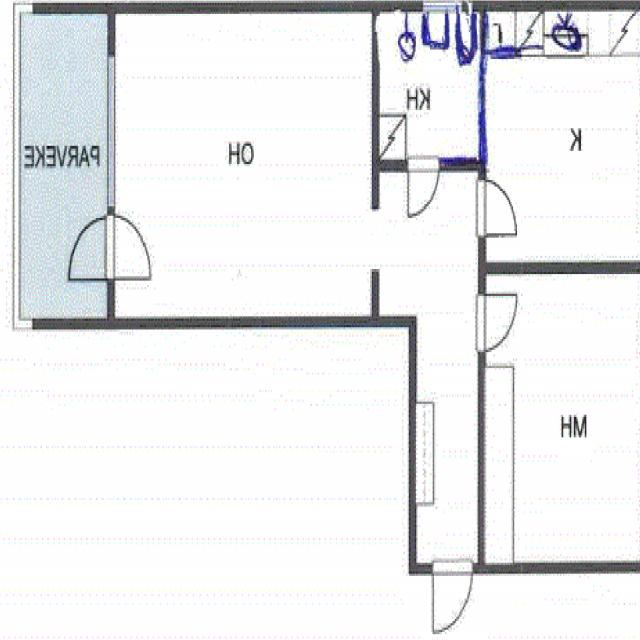door: (70, 216, 116, 279), (433, 564, 472, 637), (109, 216, 154, 279), (480, 181, 520, 236), (480, 295, 520, 350), (408, 160, 439, 222)
